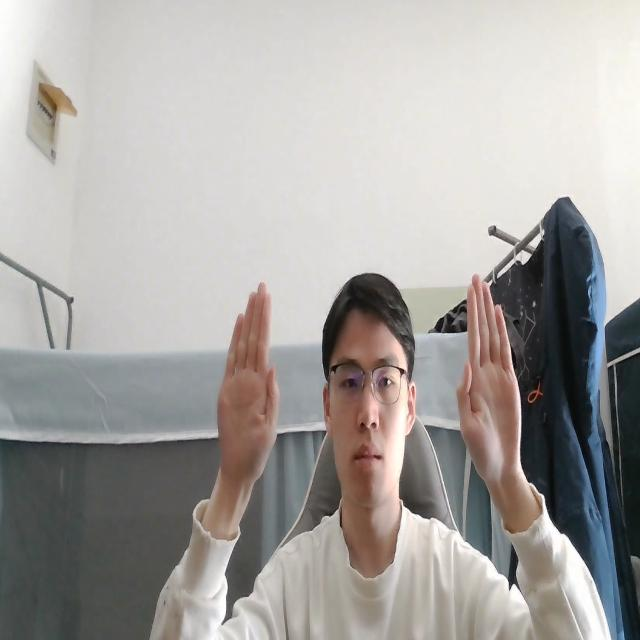five: (454, 266, 528, 494), (215, 277, 282, 494)
